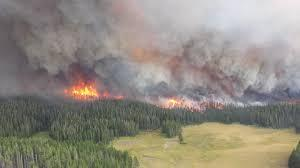fire: (151, 95, 223, 113), (61, 79, 121, 100)
smoke: (1, 1, 298, 103)
